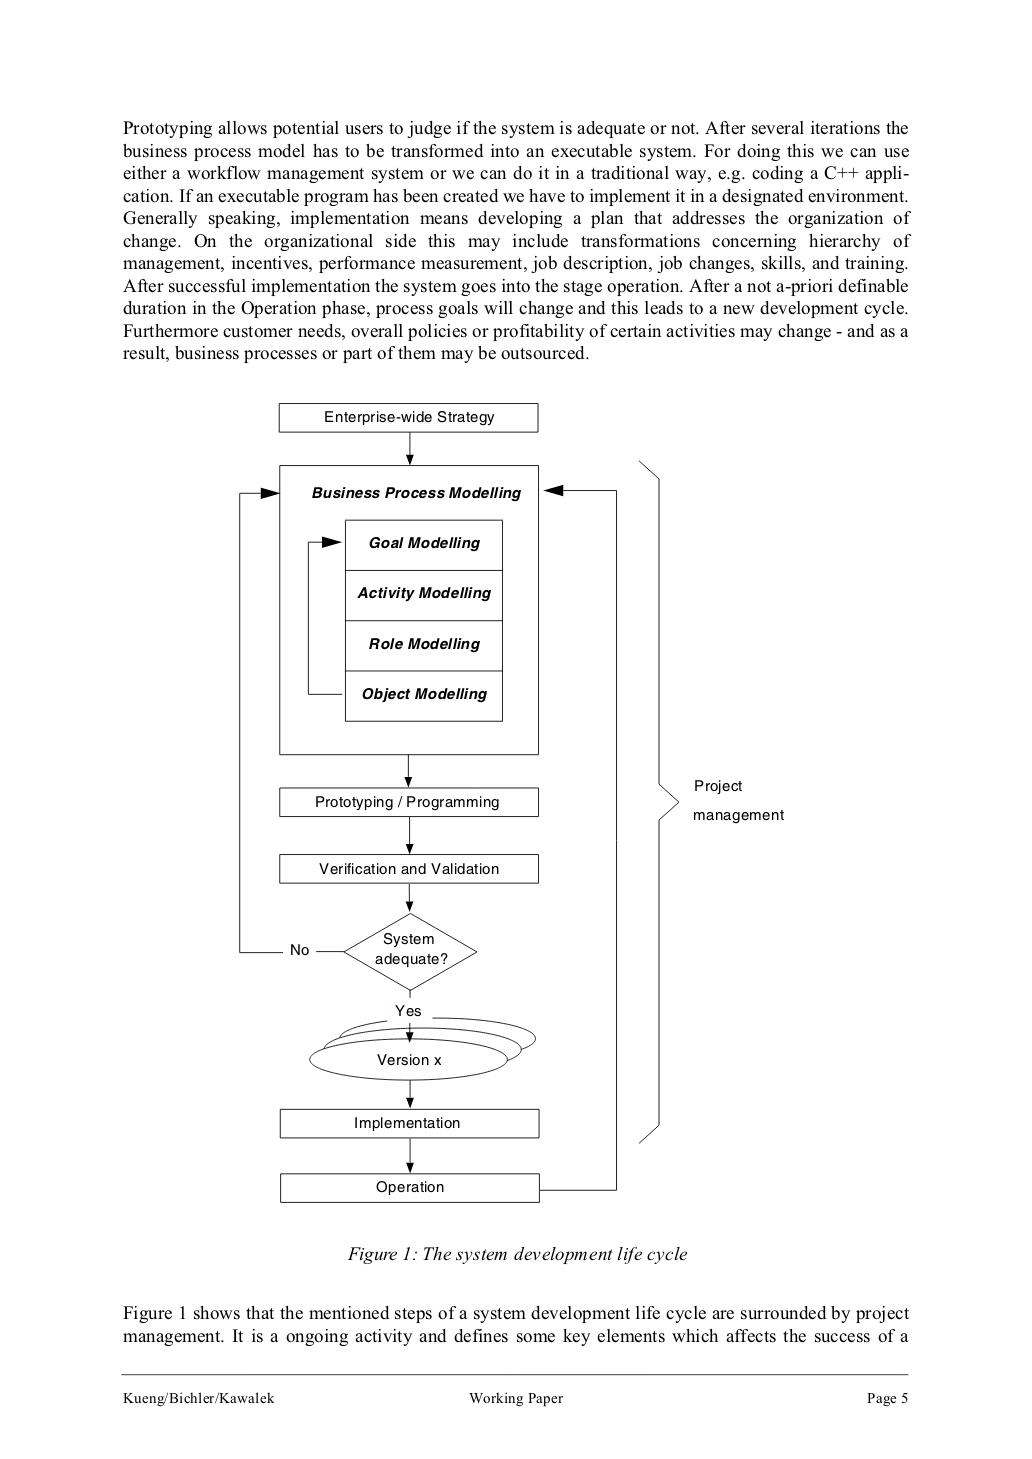figure: (239, 403, 783, 1202)
